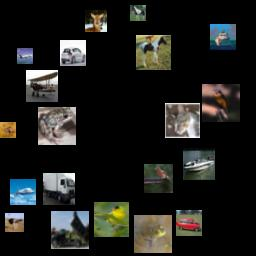airplane: (26, 70, 58, 102), (10, 179, 36, 205), (17, 48, 33, 64)
automobile: (176, 210, 202, 236), (60, 40, 86, 66)
bird: (202, 84, 240, 122), (94, 202, 129, 237), (144, 164, 173, 193), (5, 213, 24, 232), (0, 122, 16, 138)
cat: (165, 103, 200, 138)
deer: (85, 10, 107, 32)
frog: (38, 107, 76, 145), (134, 215, 172, 253)
ship: (183, 148, 215, 180), (210, 24, 236, 50)
truck: (51, 211, 89, 249), (43, 173, 75, 205)
